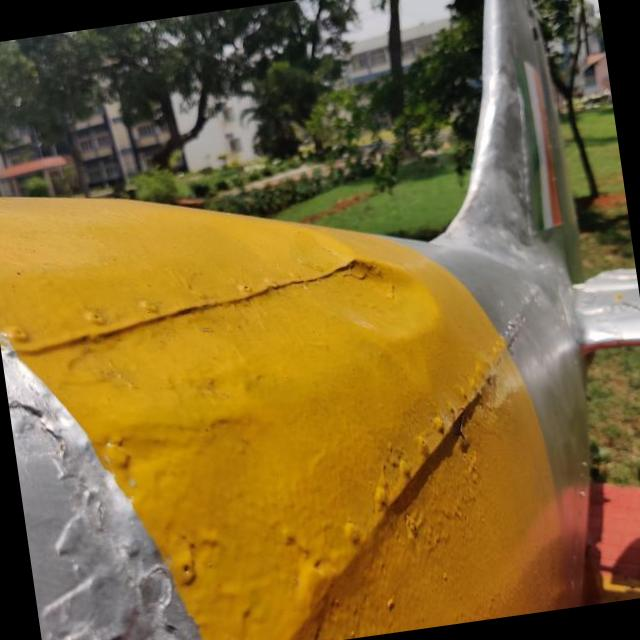Dent: (321, 260, 443, 341)
